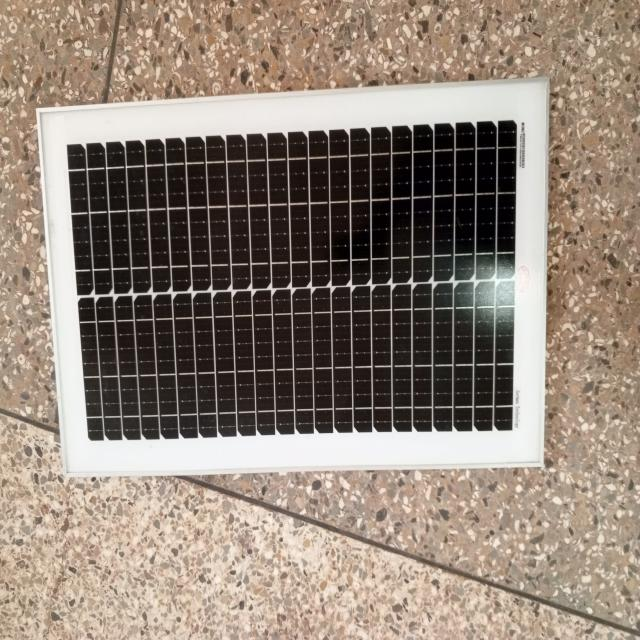Clean: (74, 130, 534, 454)
